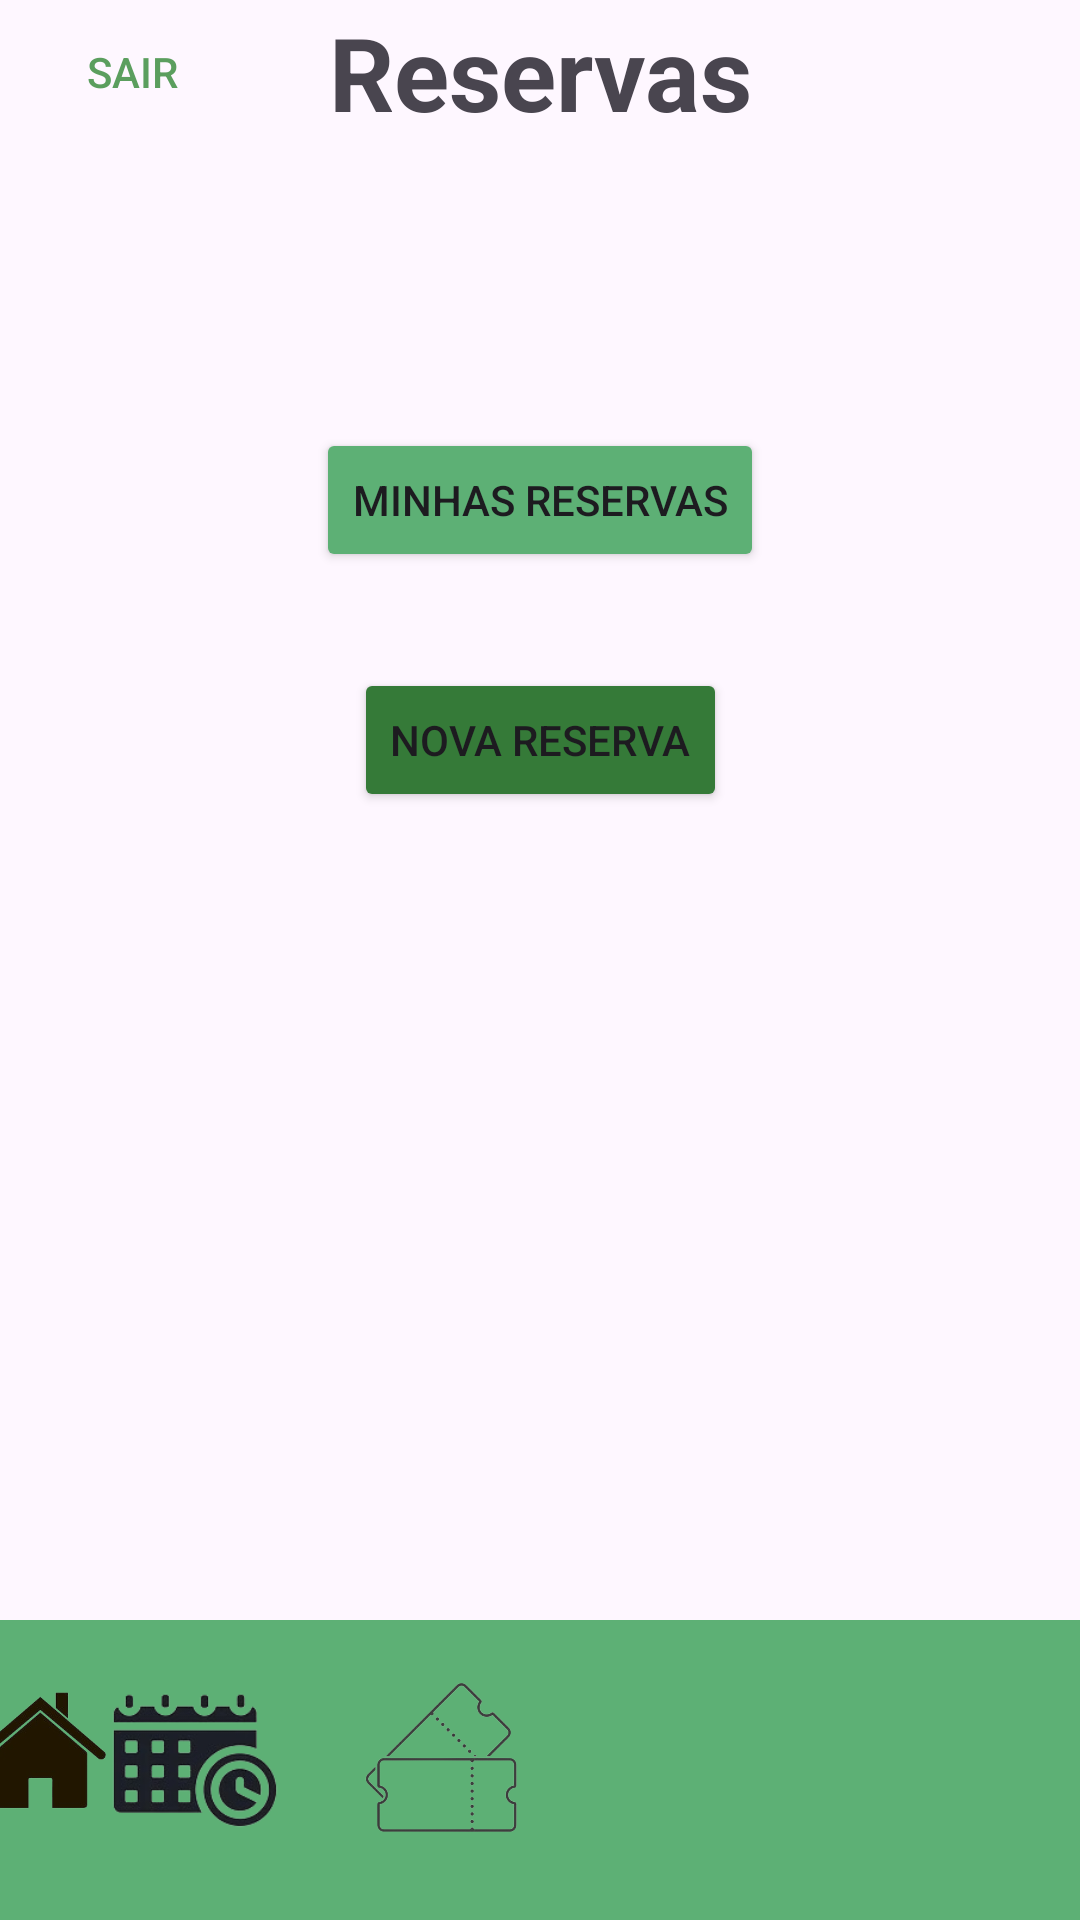

Icons on this 1080w x 1920h Android screen, each with the point to tap as [x,y]:
reserva: [195,1760]
ticket: [441,1757]
